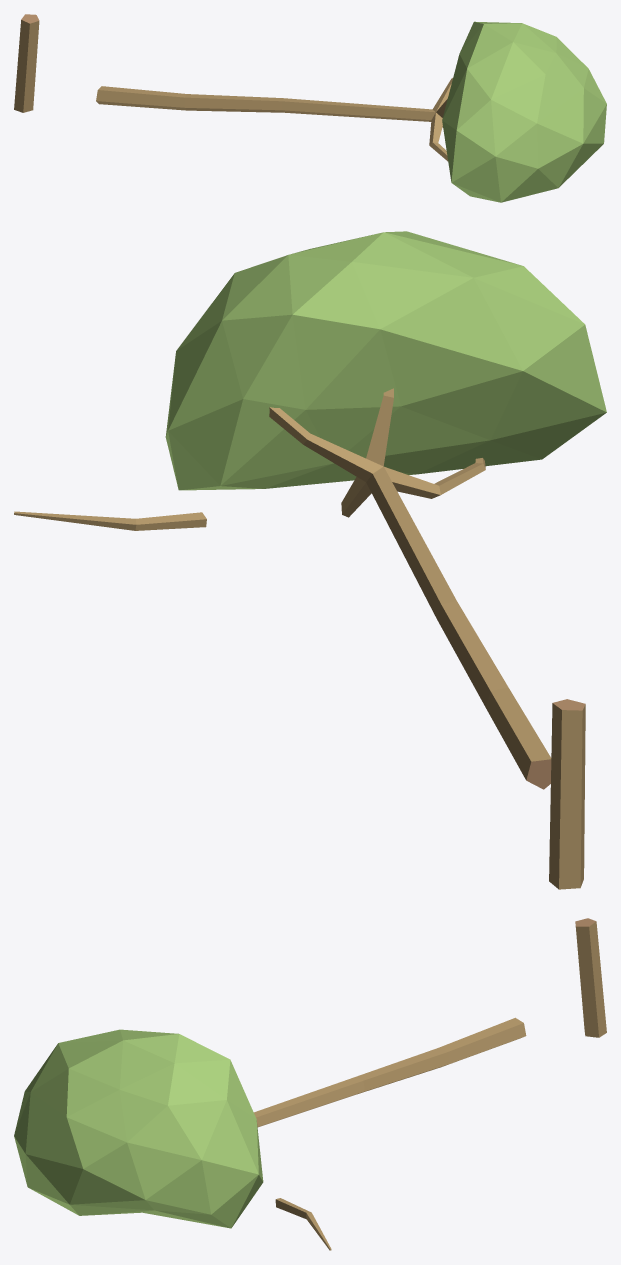
The model's file is Acacia_Tree_crk_m_03.fbx.
3 renders of one model, top to bottom at view 1: azimuth 30°, elevation 25°; view 2: azimuth 150°, elevation 25°; view 3: azimuth 270°, elevation 25°, orthographic. The views are drawn at different scales.
Parts seen in each view (by area): view 1: Acacia_Tree_crk_m_03; view 2: Acacia_Tree_crk_m_03; view 3: Acacia_Tree_crk_m_03.
Part boxes in pixels (x1,y1,x2,y2): Acacia_Tree_crk_m_03: [14, 14, 606, 202]; Acacia_Tree_crk_m_03: [14, 231, 606, 889]; Acacia_Tree_crk_m_03: [14, 918, 606, 1250].
Bounding box in the file's own units: 688 × 220 × 699.
